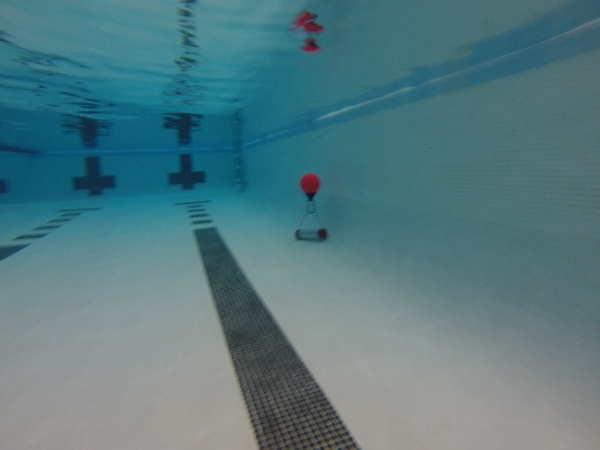buoy_red: (297, 173, 324, 203)
